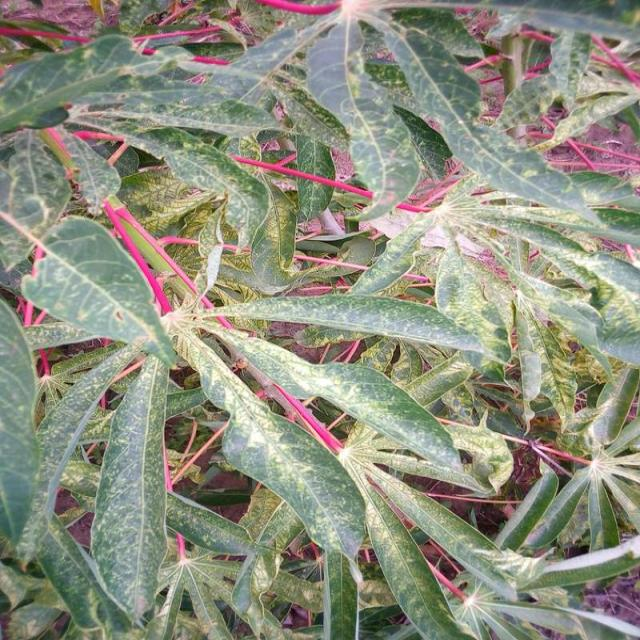cassava leaf: (2, 2, 640, 638), (22, 213, 178, 368), (90, 352, 172, 626)
